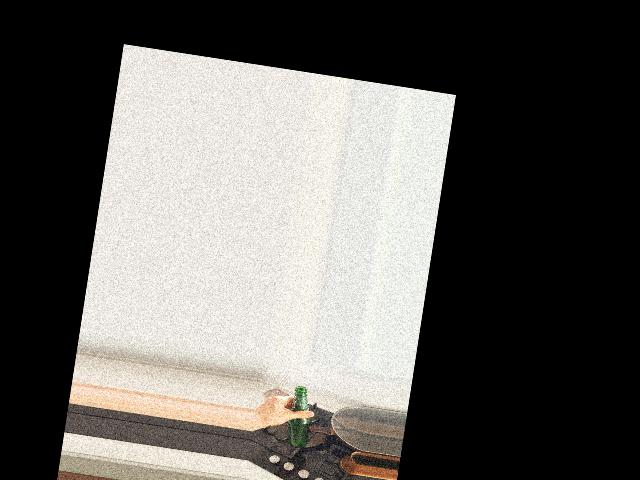beer: (286, 386, 315, 449)
